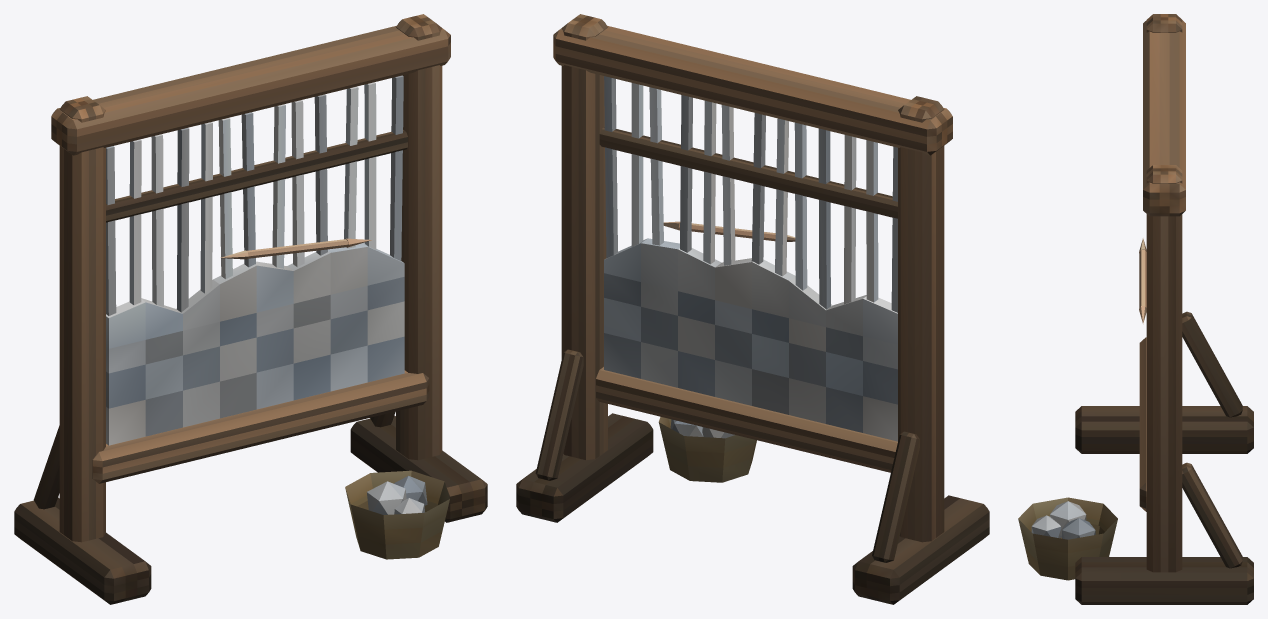
Rendered from loom.hq.glb.
The picture shows the model from 3 angles, left to right: view 1: azimuth 30°, elevation 25°; view 2: azimuth 150°, elevation 25°; view 3: azimuth 270°, elevation 25°; orthographic projection. The views are drawn at different scales.
Visible parts, largest first — view 1: loom; view 2: loom; view 3: loom.
Part boxes in pixels (left/top/right/bottom): loom: left=14, top=14, right=487, bottom=604; loom: left=516, top=14, right=989, bottom=604; loom: left=1018, top=14, right=1253, bottom=604.
Size of the model in its own units: 1.14 by 1.32 by 0.6601.
